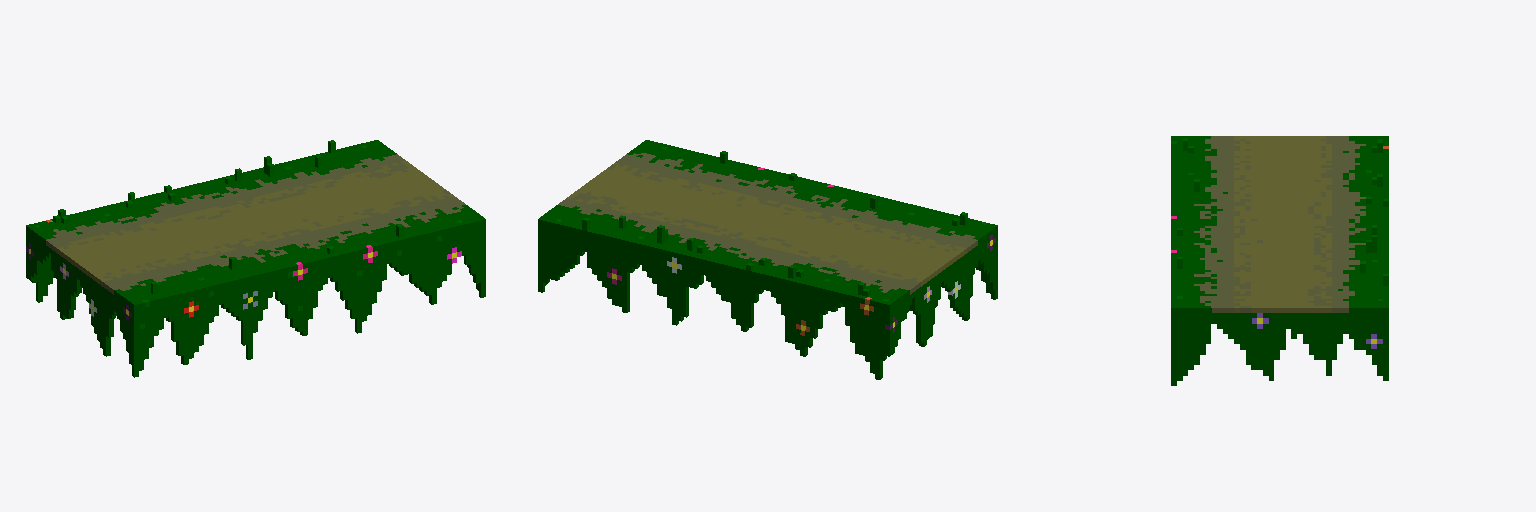
The picture shows the model from 3 angles: view 1: azimuth 30°, elevation 25°; view 2: azimuth 150°, elevation 25°; view 3: azimuth 270°, elevation 25°; orthographic projection.
Visible parts, largest first — view 1: floor_floor.001; view 2: floor_floor.001; view 3: floor_floor.001.
Boxes of the visible parts, box(x1,y1,x2,y2) form: floor_floor.001: box(26, 140, 485, 377); floor_floor.001: box(538, 140, 997, 379); floor_floor.001: box(1171, 136, 1388, 385).
Size of the model in its own units: 7.1 by 1.9 by 3.8.
1 materials, 1 textured.